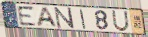8: (94, 9, 110, 31)
A: (36, 7, 59, 28)
E: (16, 5, 38, 26)
I: (79, 9, 87, 30)
N: (53, 7, 76, 30)
U: (111, 10, 130, 32)
